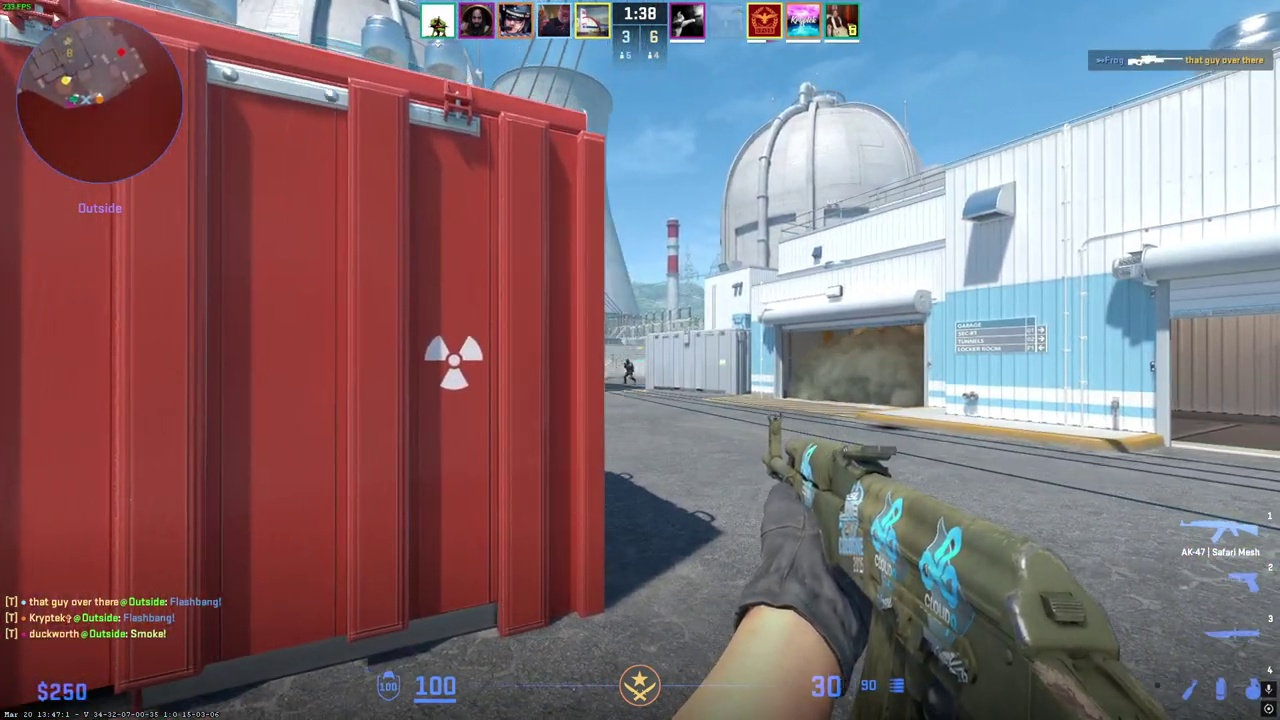CT: (622, 358, 635, 383)
